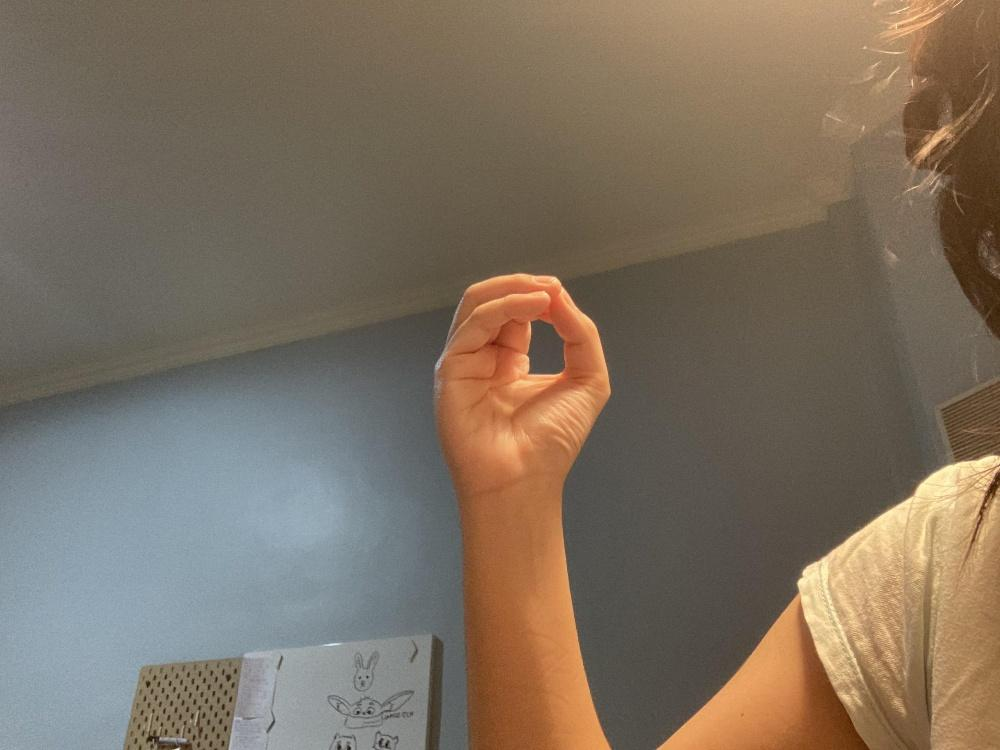o: (432, 271, 611, 498)
